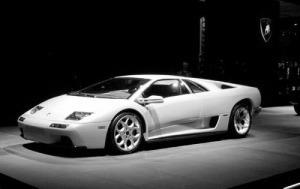car: (7, 51, 290, 181)
